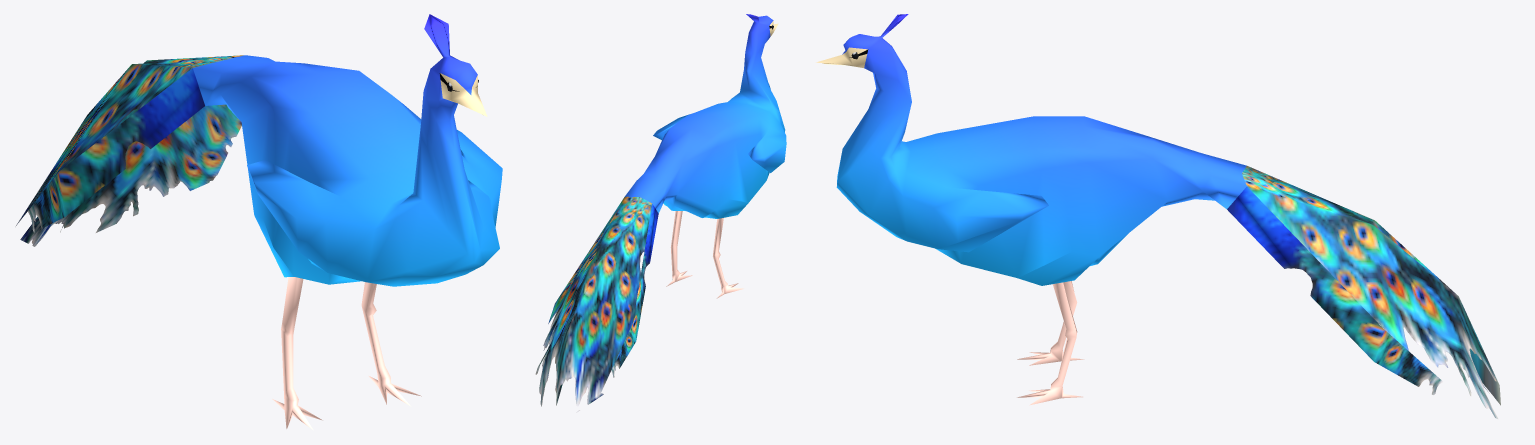
3 views of the same model, side by side, from view 1: azimuth 30°, elevation 25°; view 2: azimuth 150°, elevation 25°; view 3: azimuth 270°, elevation 25° (orthographic). The views are drawn at different scales.
Visible parts, largest first — view 1: Peacock01; view 2: Peacock01; view 3: Peacock01.
Boxes of the visible parts, <box> form: Peacock01: <box>15,14,502,430</box>; Peacock01: <box>535,14,786,412</box>; Peacock01: <box>816,14,1500,418</box>.
Size of what is drawn, in the model's own units: 0.5364 by 1.29 by 1.97.
2 materials, 2 textured.
